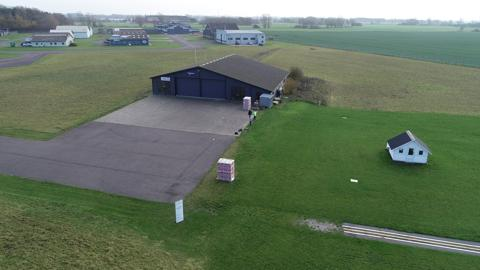RockwoolPallet: (243, 96, 252, 111)
